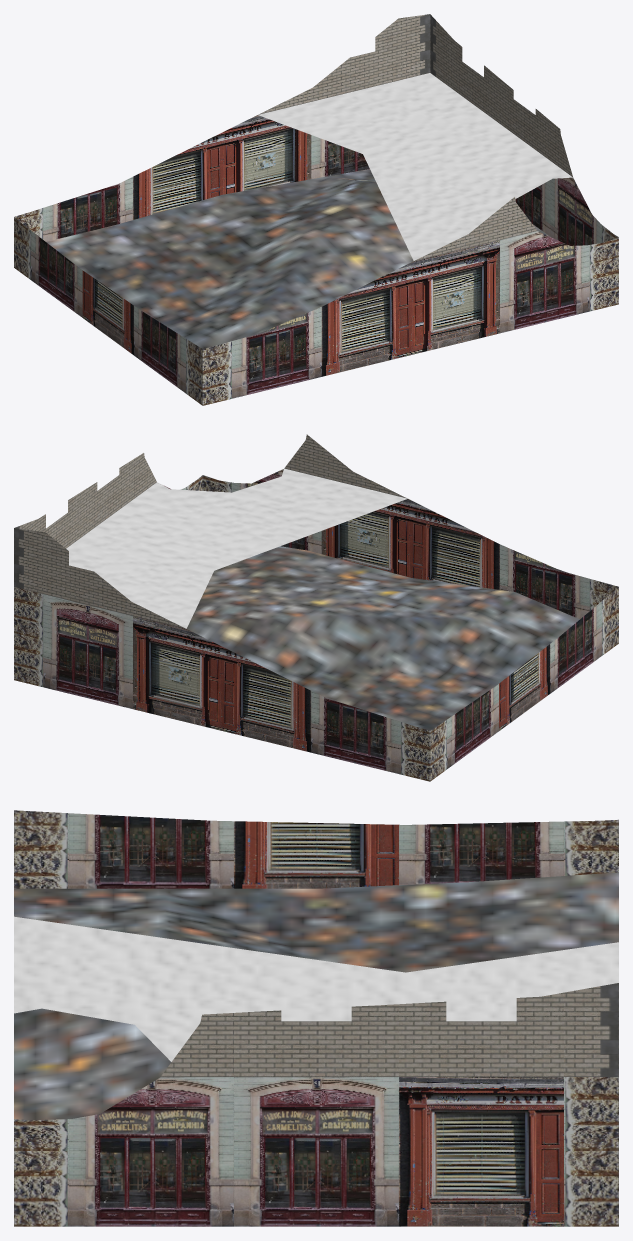
File: House_006_destroyed_002.dae
3 views of the same model, one above another, from view 1: azimuth 30°, elevation 25°; view 2: azimuth 150°, elevation 25°; view 3: azimuth 270°, elevation 25° (orthographic). The views are drawn at different scales.
Parts seen in each view (by area): view 1: House_006_001; view 2: House_006_001; view 3: House_006_001.
Boxes of the visible parts, x1,y1,x2,y2 form: House_006_001: (14, 14, 618, 405); House_006_001: (14, 434, 618, 781); House_006_001: (14, 810, 618, 1226).
Bounding box in the file's own units: 112 × 88 × 39.98.
1 material, 1 textured.
